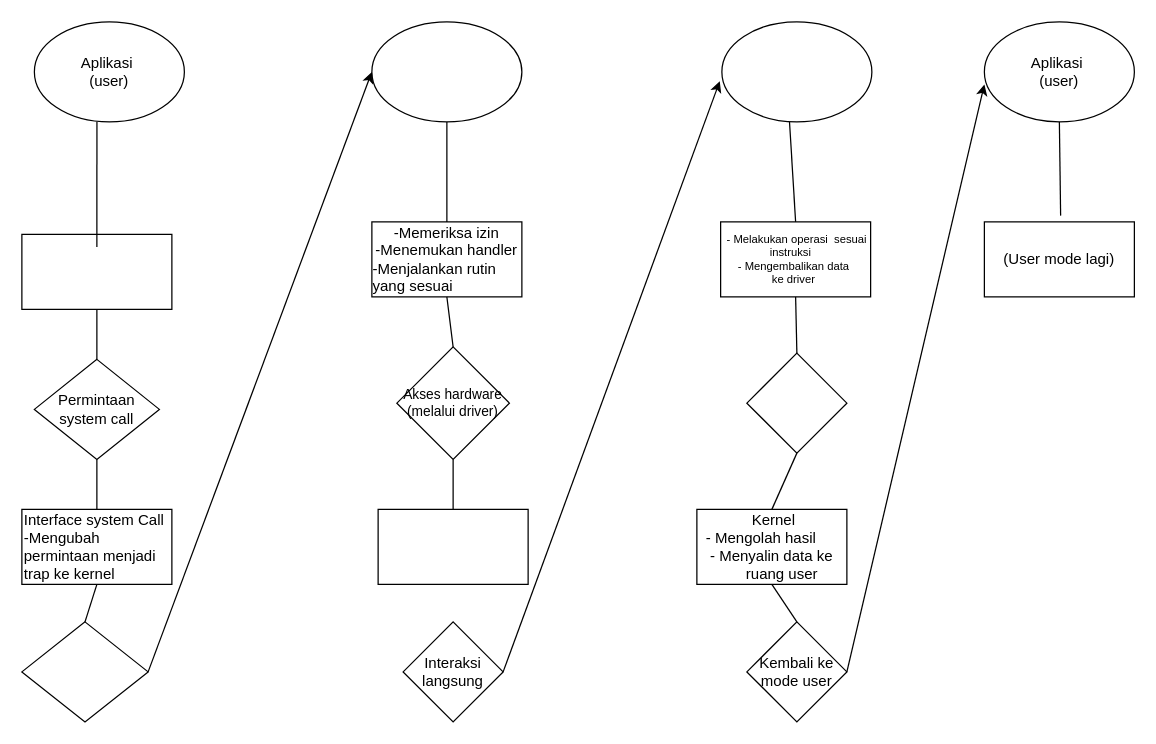
This 1156x744 diagram has some shape labels left out. The shapes that lost their labels are listed below. From the top down, each one's centre as x and y in pixels, then its label:
At (x=446, y=71): "Kernel".
At (x=796, y=71): "Hardware".
At (x=96, y=271): "-Memangggil fungsi sistem (misal: read(), write())".
At (x=796, y=402): "Data di kembalikan ke kernel".
At (x=452, y=546): "Device driver - Mengirim perintah ke perangkat fisik (misal disk, dll)".
At (x=84, y=671): "Trap ke kernel (mode user-> mode kernel".
